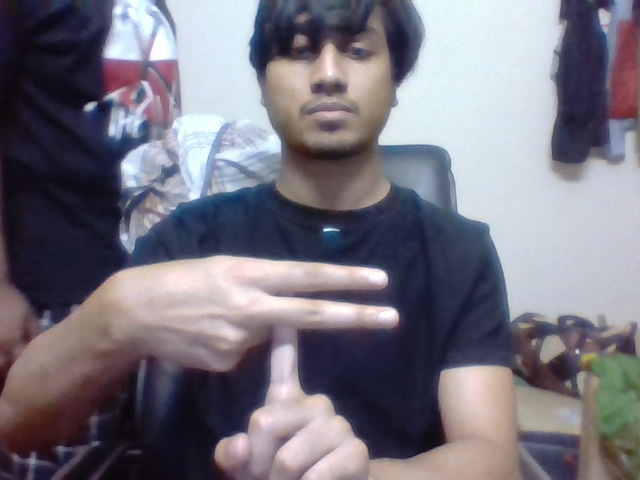F: (251, 254, 410, 397)
